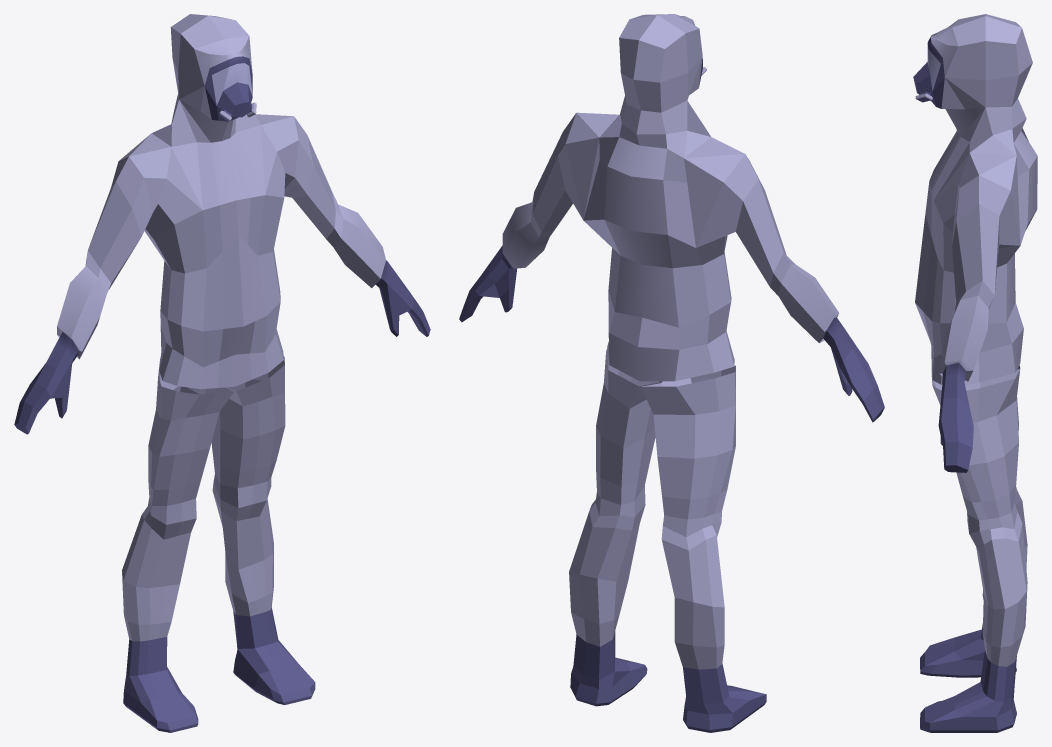
Rendered from doctor_new_fr_trust (1).fbx.
The picture shows the model from 3 angles, left to right: view 1: azimuth 30°, elevation 25°; view 2: azimuth 150°, elevation 25°; view 3: azimuth 270°, elevation 25°; orthographic projection. The views are drawn at different scales.
Visible parts, largest first — view 1: polySurface2, polySurface4, polySurface3; view 2: polySurface2, polySurface4, polySurface3; view 3: polySurface2, polySurface3, polySurface4.
Part boxes in pixels (x1,y1,x2,y2): polySurface2: [14, 14, 430, 434]; polySurface4: [122, 358, 233, 732]; polySurface3: [211, 356, 315, 704]; polySurface2: [459, 14, 884, 422]; polySurface4: [641, 365, 766, 732]; polySurface3: [569, 348, 662, 706]; polySurface2: [913, 14, 1037, 472]; polySurface3: [920, 369, 1027, 732]; polySurface4: [920, 365, 1027, 677].
Size of the model in its own units: 26.9 by 42.52 by 7.06.
